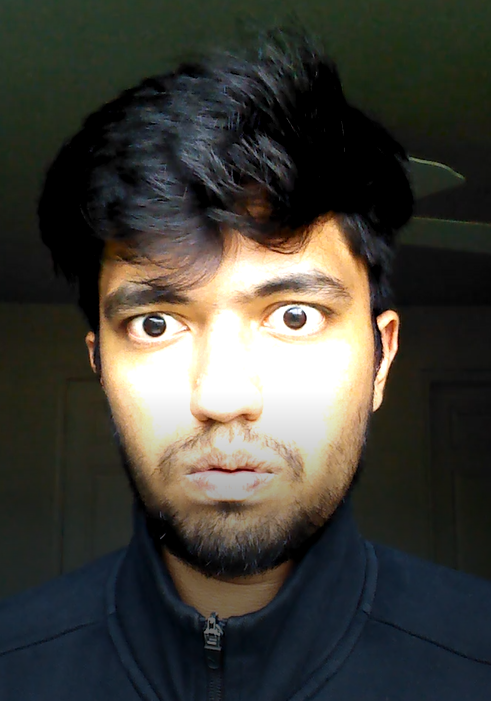Not Sleeping: (106, 283, 361, 376)
